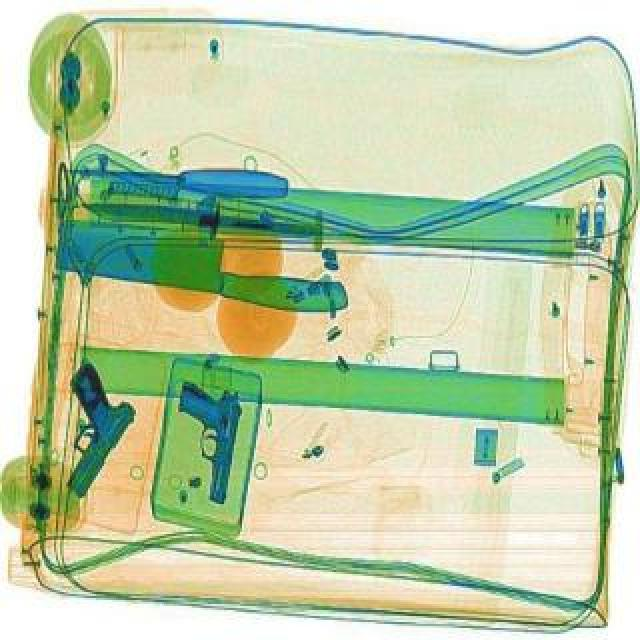gun: (16, 358, 150, 500), (162, 374, 246, 502)
knife: (52, 210, 356, 314), (78, 194, 318, 240), (62, 156, 288, 198)
